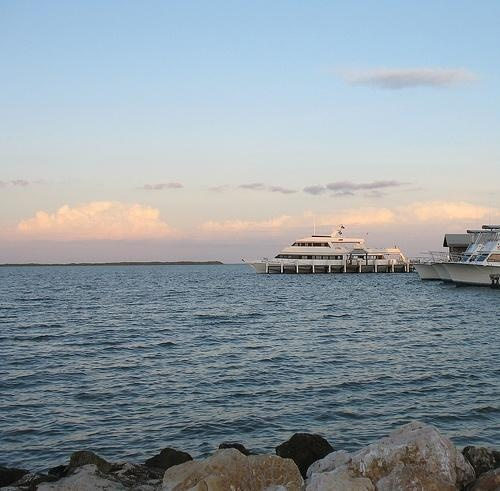boat: (243, 223, 410, 279), (431, 229, 488, 282), (443, 240, 500, 288), (410, 244, 458, 283)
